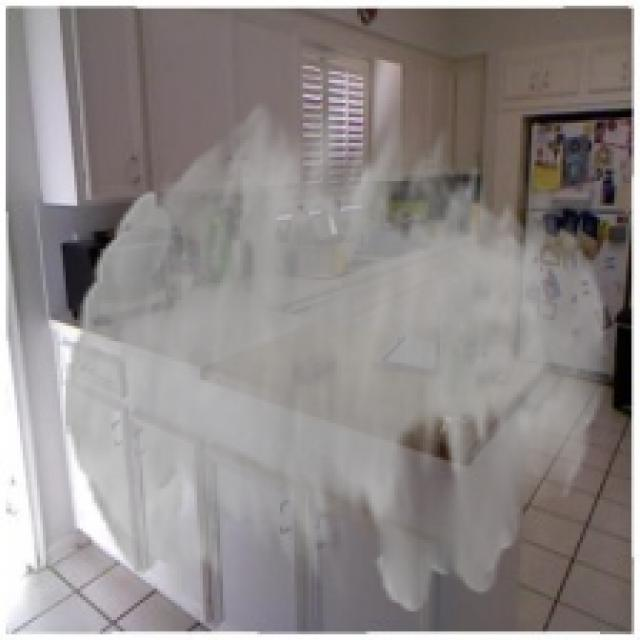smoke: (66, 97, 608, 612)
